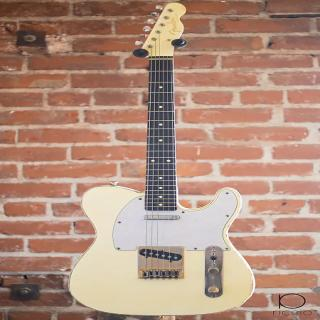Fender Telecaster: (62, 1, 259, 319)
SS: (139, 210, 187, 265)
